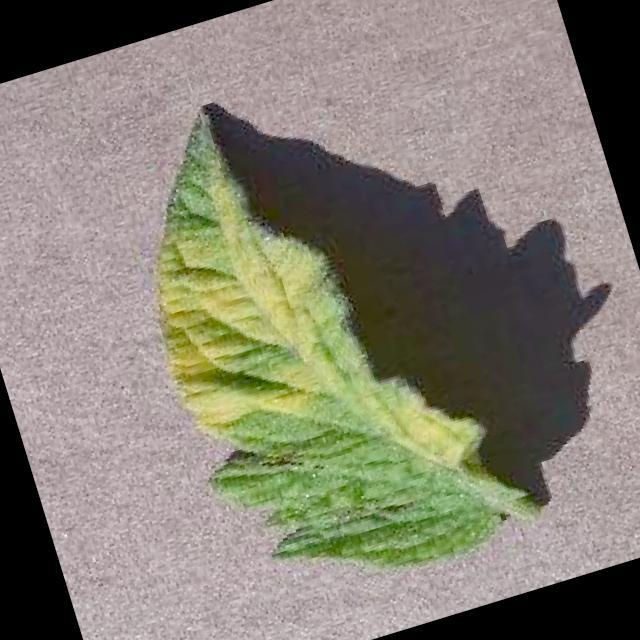Tomato mold leaf: (98, 51, 522, 618)
